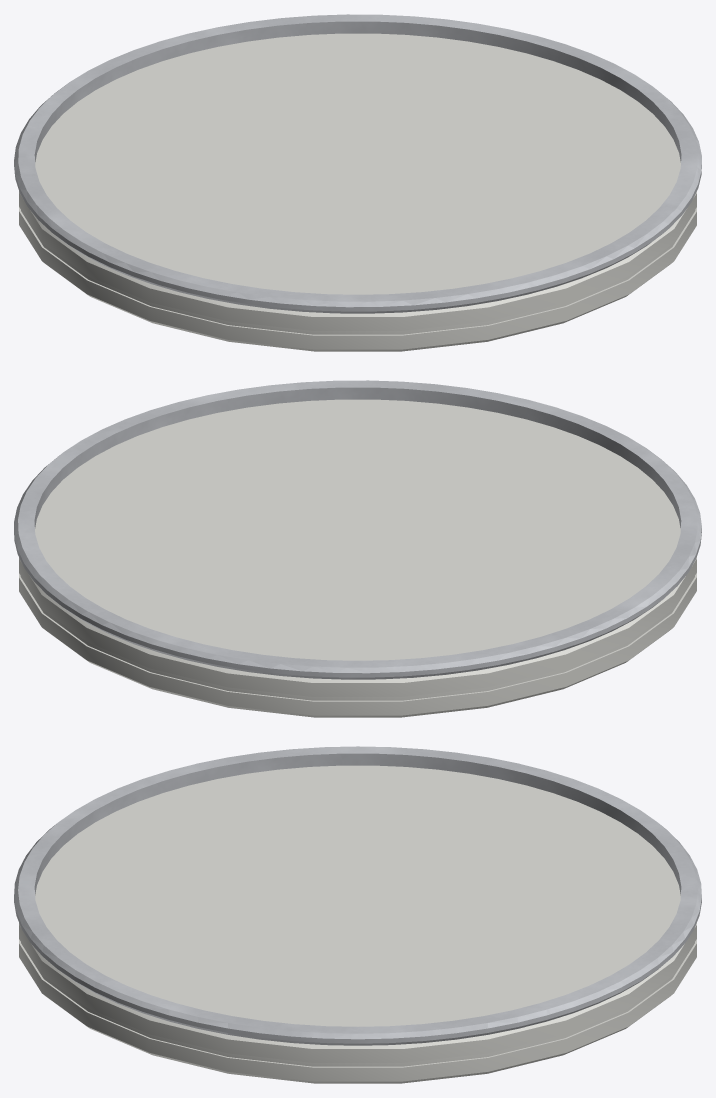
The model's file is ax_struct_14_multi_mount_xl_x4.glb.
3 renders of one model, top to bottom at view 1: azimuth 30°, elevation 25°; view 2: azimuth 150°, elevation 25°; view 3: azimuth 270°, elevation 25°, orthographic.
Parts seen in each view (by area): view 1: mount_plate, top_ring; view 2: mount_plate, top_ring; view 3: mount_plate, top_ring.
Boxes of the visible parts, x1,y1,x2,y2 form: mount_plate: [19, 33, 696, 351]; top_ring: [14, 14, 701, 313]; mount_plate: [19, 399, 696, 717]; top_ring: [14, 380, 701, 679]; mount_plate: [19, 765, 696, 1083]; top_ring: [14, 746, 701, 1045].
Size of the model in its own units: 5 by 0.501 by 5.
2 materials, 1 textured.
